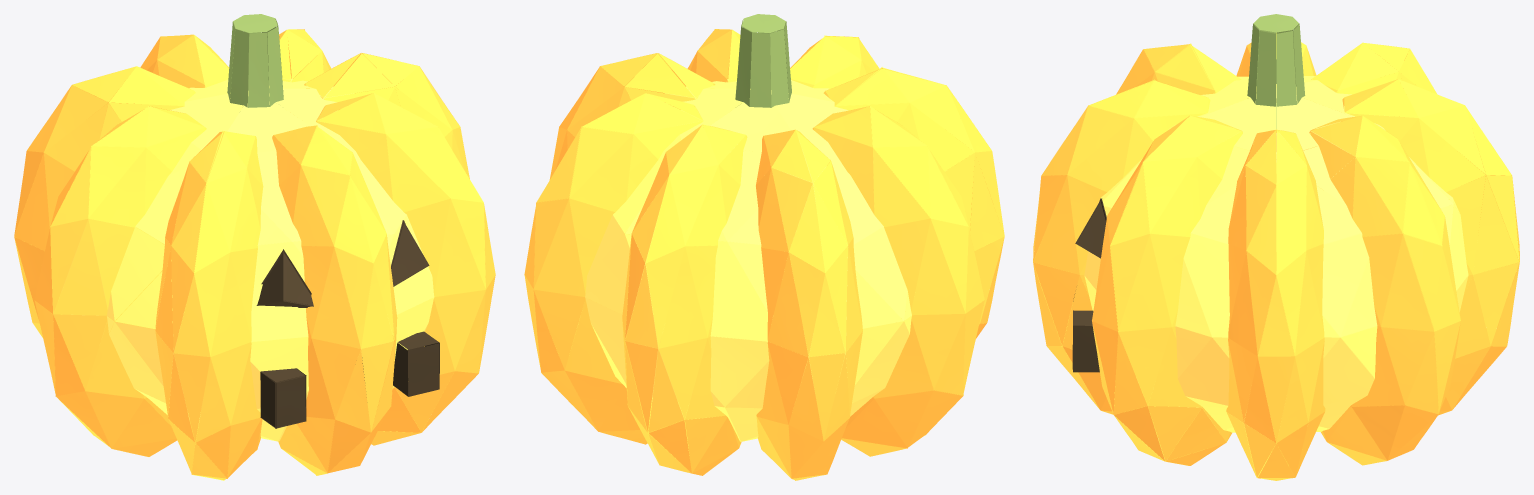
Rendered from halloween_pumpkin.glb.
The picture shows the model from 3 angles, left to right: view 1: azimuth 30°, elevation 25°; view 2: azimuth 150°, elevation 25°; view 3: azimuth 270°, elevation 25°; orthographic projection.
Parts seen in each view (by area): view 1: Pumpkin; view 2: Pumpkin; view 3: Pumpkin.
Boxes of the visible parts, left/top/right/bottom form: Pumpkin: left=14, top=14, right=495, bottom=480; Pumpkin: left=524, top=14, right=1004, bottom=480; Pumpkin: left=1033, top=14, right=1519, bottom=480.
Bounding box in the file's own units: 1.91 × 1.77 × 1.92.
